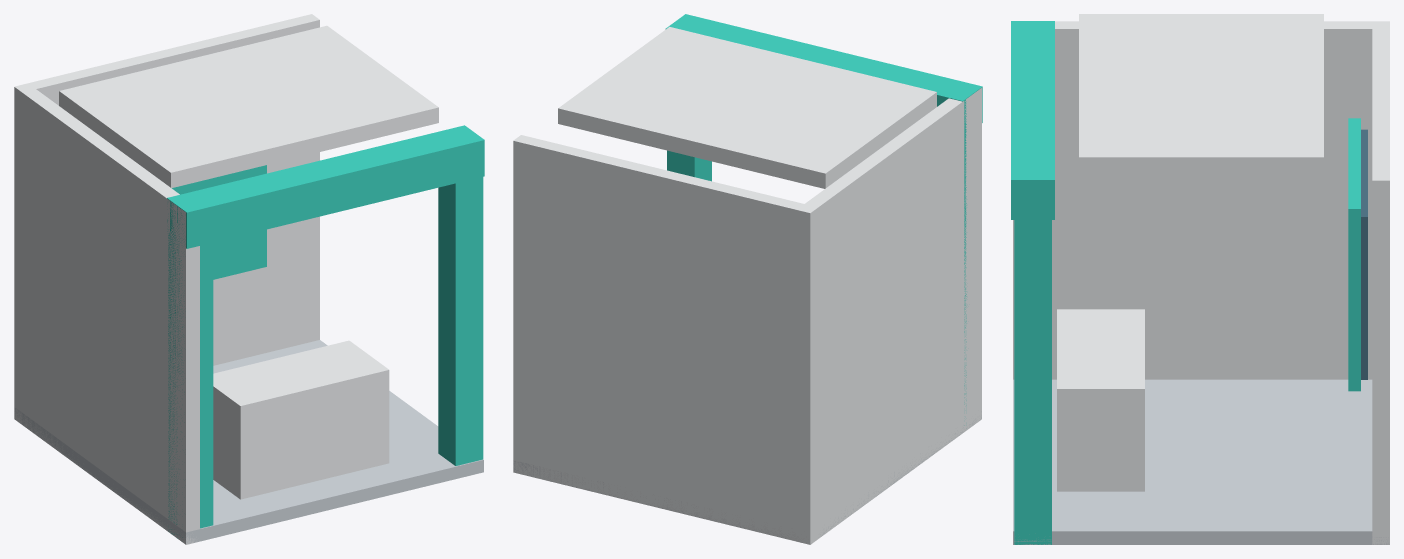
3 views of the same model, side by side, from view 1: azimuth 30°, elevation 25°; view 2: azimuth 150°, elevation 25°; view 3: azimuth 270°, elevation 25° (orthographic). The views are drawn at different scales.
Parts seen in each view (by area): view 1: Exhibition Booth Concept; view 2: Exhibition Booth Concept; view 3: Exhibition Booth Concept.
Boxes of the visible parts, <box> form: Exhibition Booth Concept: <box>14,14,484,544</box>; Exhibition Booth Concept: <box>513,14,982,544</box>; Exhibition Booth Concept: <box>1011,14,1389,544</box>.
Size of the model in its own units: 3 by 3.34 by 3.01.
